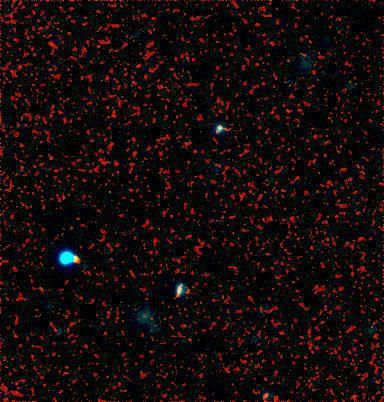star: (62, 247, 92, 277)
